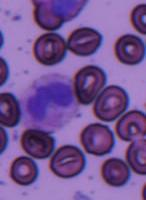N: (21, 72, 77, 132)
